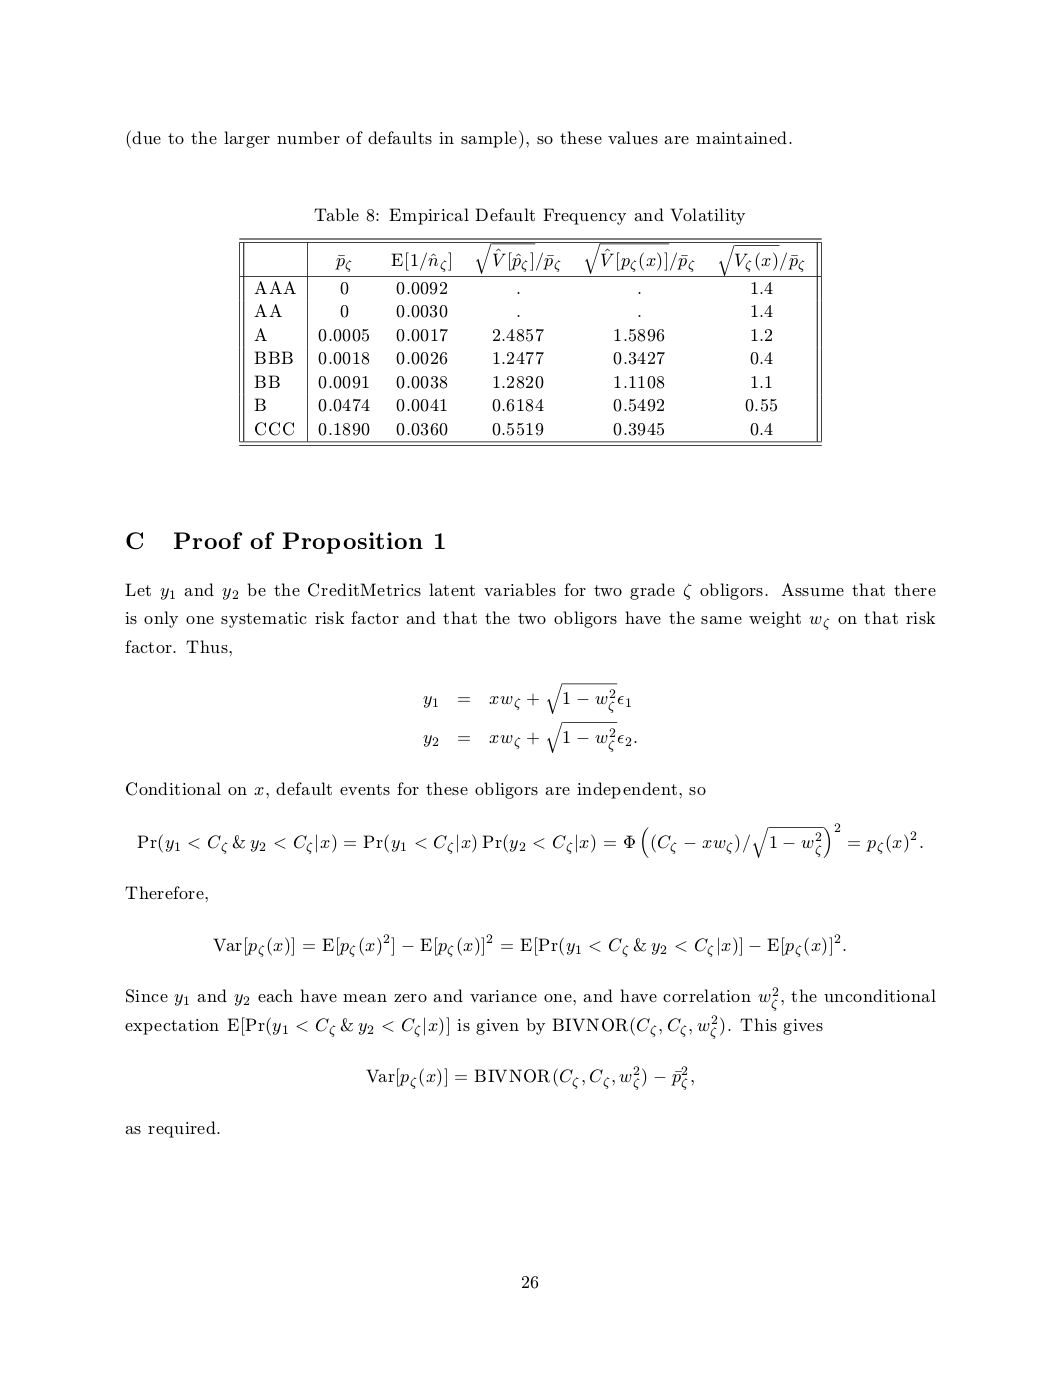Table: (239, 237, 821, 446)
formula: (137, 822, 922, 858), (213, 932, 845, 957), (366, 1065, 693, 1090), (424, 721, 636, 753), (424, 682, 630, 714)
